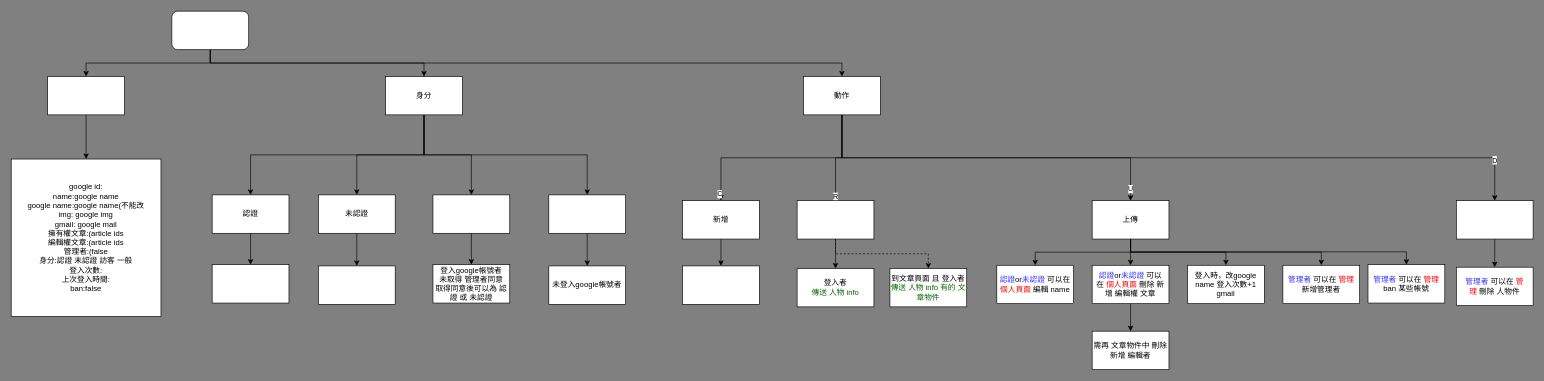
The diagram is 1544 pixels wide and 381 high, and some of its shapes have lost their labels. The shapes that lost their labels are listed below. From the top down, each one's centre as x and y in pixels, then its label:
(210,30): 人 物件
(85,95): 屬性
(471,213): 訪客
(587,213): 一般
(835,219): 讀取
(1494,219): 刪除
(250,283): 撰寫之文章 不 需 管理者 審核
(356,284): 撰寫之文章需 管理者 審核
(720,284): 登入時 且 無註冊者
